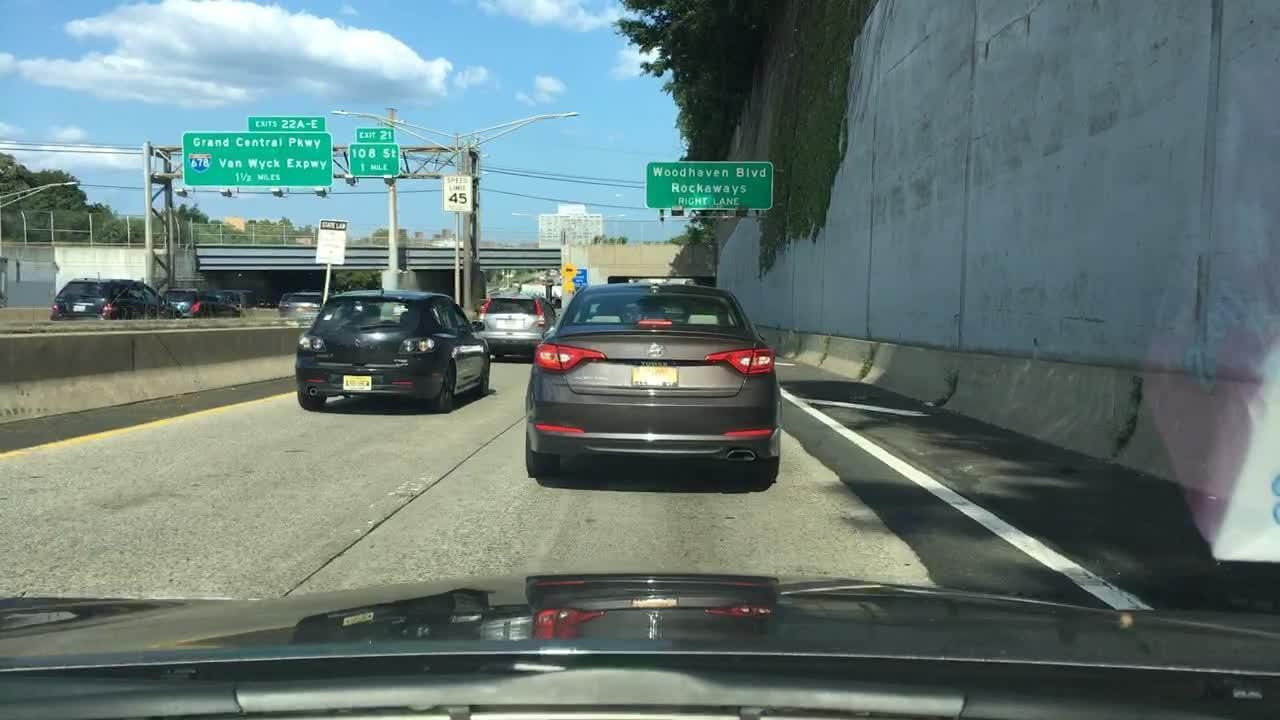Hyundai: (642, 337, 668, 362)
